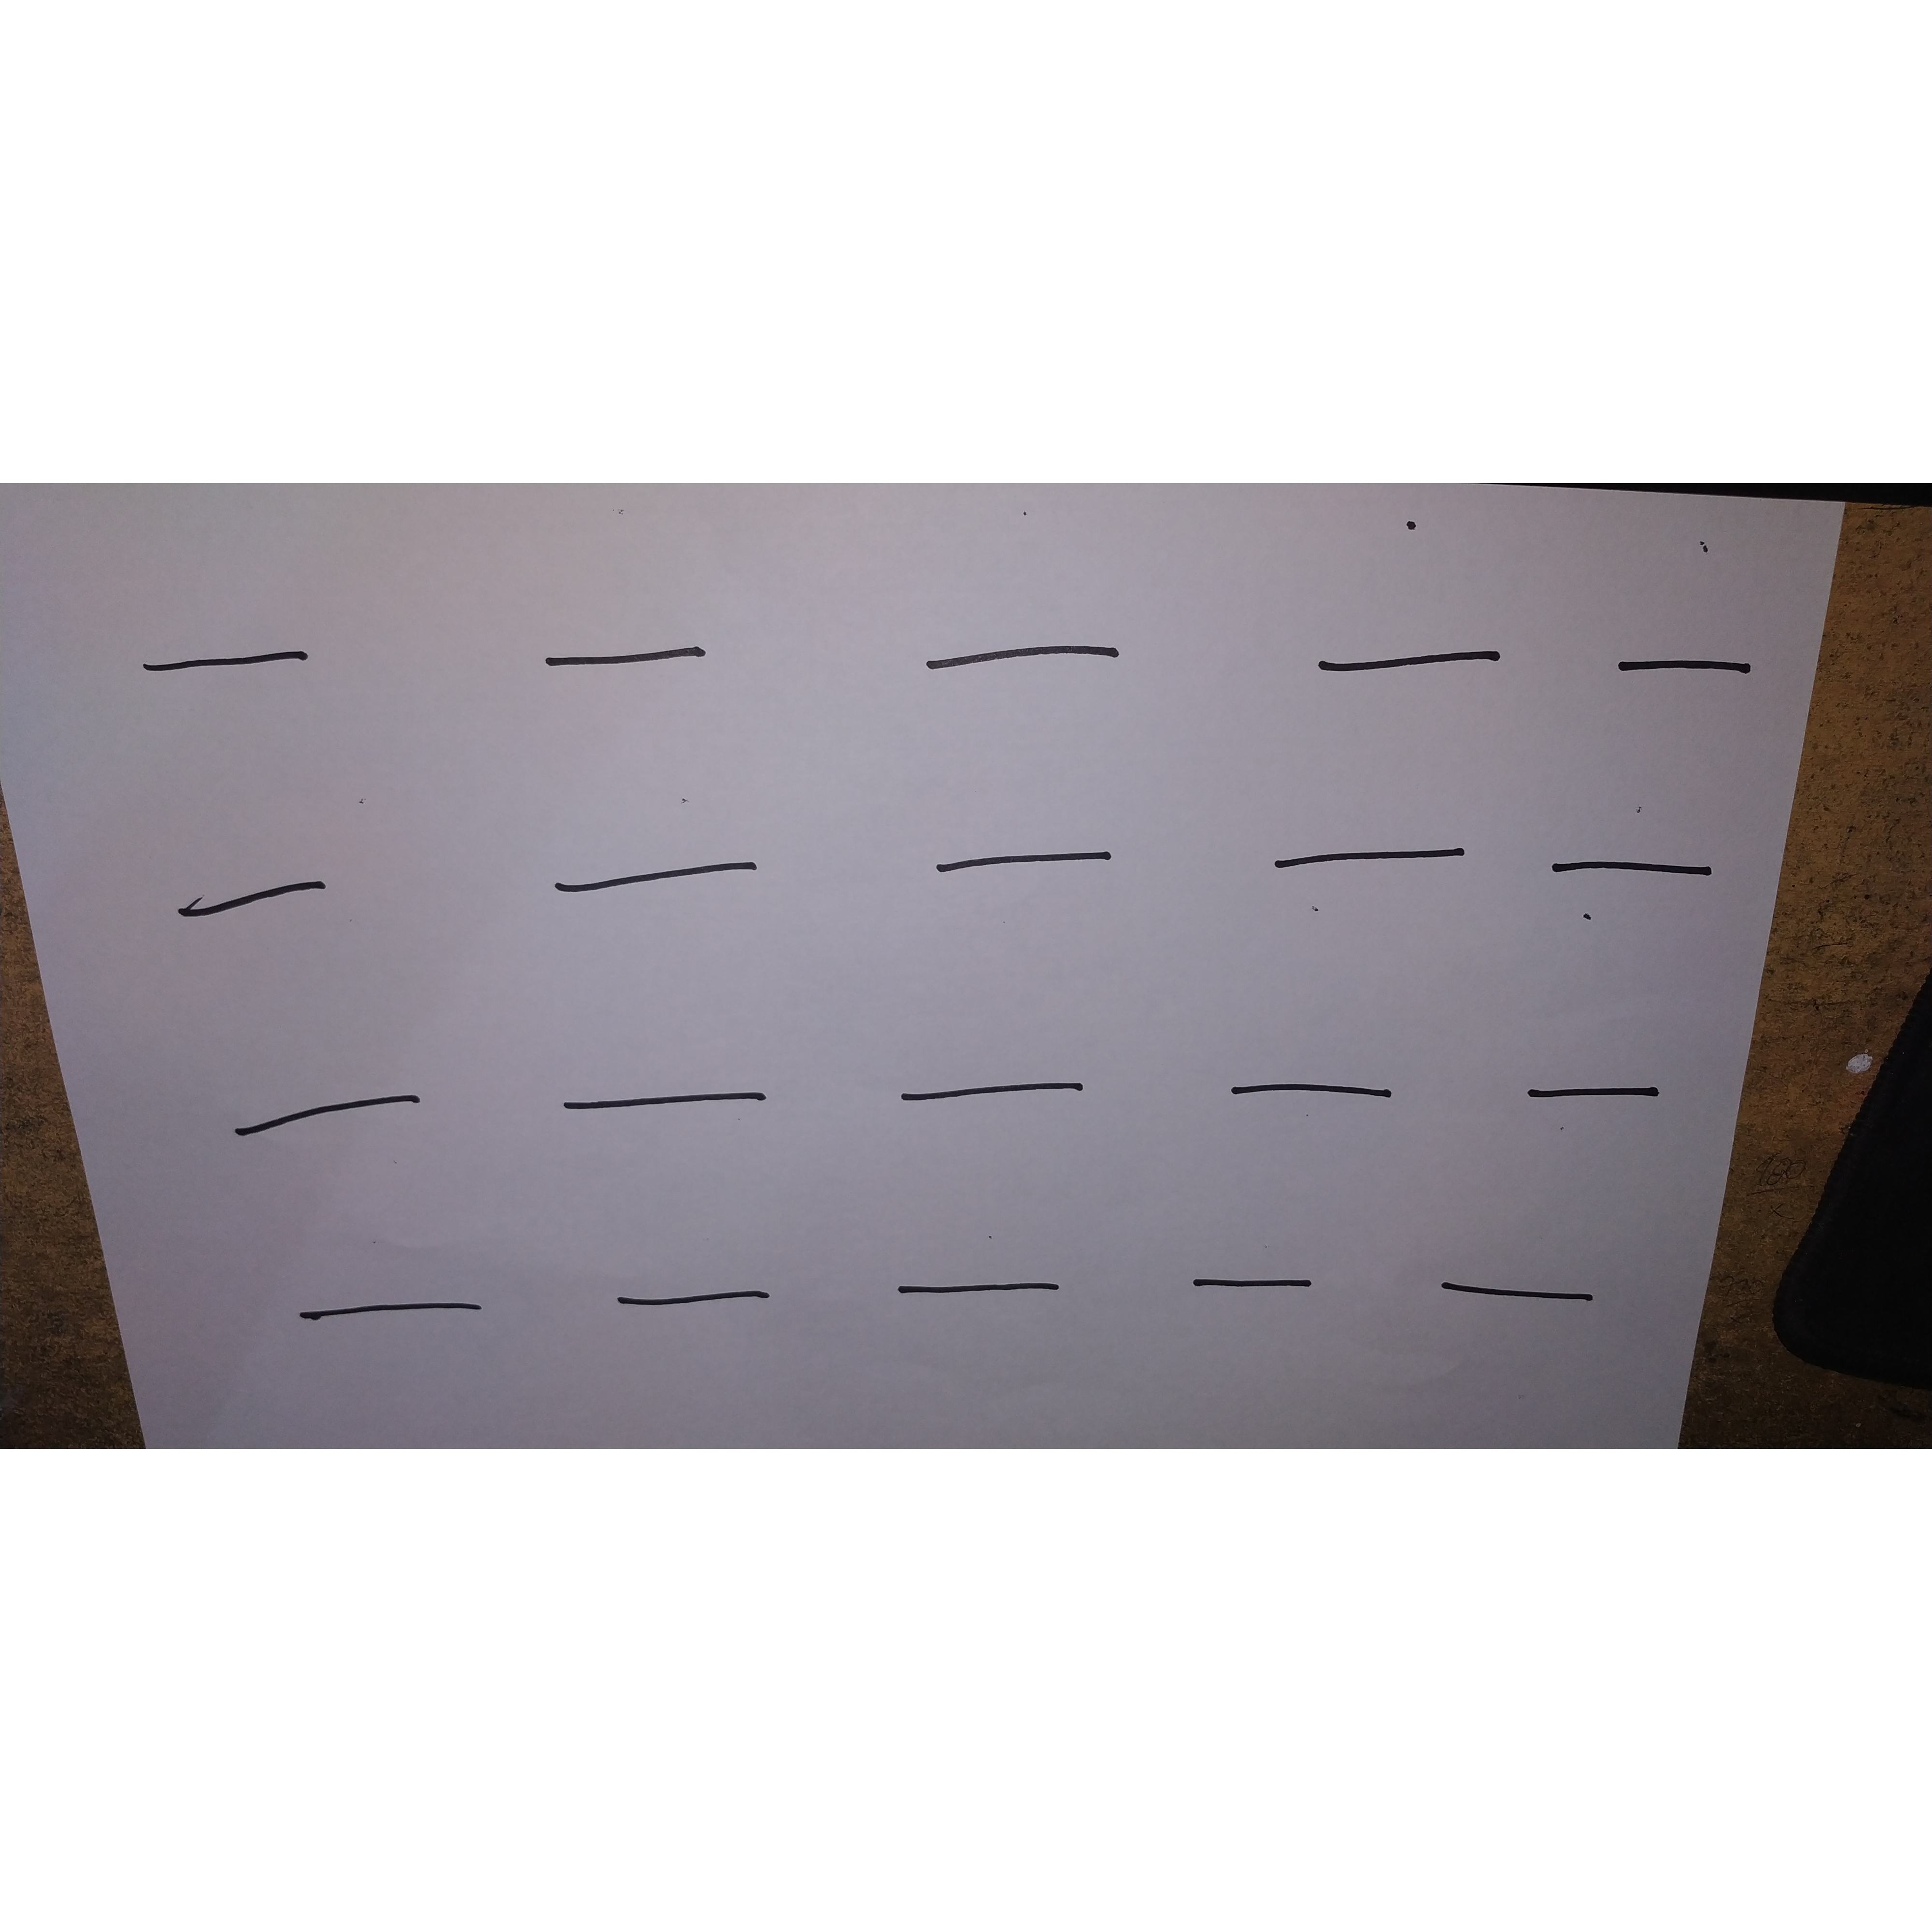min: (1263, 787, 1492, 920), (1294, 603, 1555, 718), (524, 827, 813, 926), (114, 840, 383, 943), (251, 1264, 557, 1352), (211, 1067, 463, 1153), (547, 1063, 811, 1144), (1601, 611, 1788, 724), (125, 613, 339, 710), (1221, 1052, 1422, 1153), (885, 619, 1158, 693), (912, 810, 1141, 899), (870, 1247, 1106, 1331), (1534, 827, 1744, 913), (895, 1061, 1120, 1134), (597, 1258, 822, 1329), (1181, 1247, 1374, 1327), (1421, 1251, 1616, 1329), (522, 622, 763, 681), (1513, 1050, 1681, 1134)
